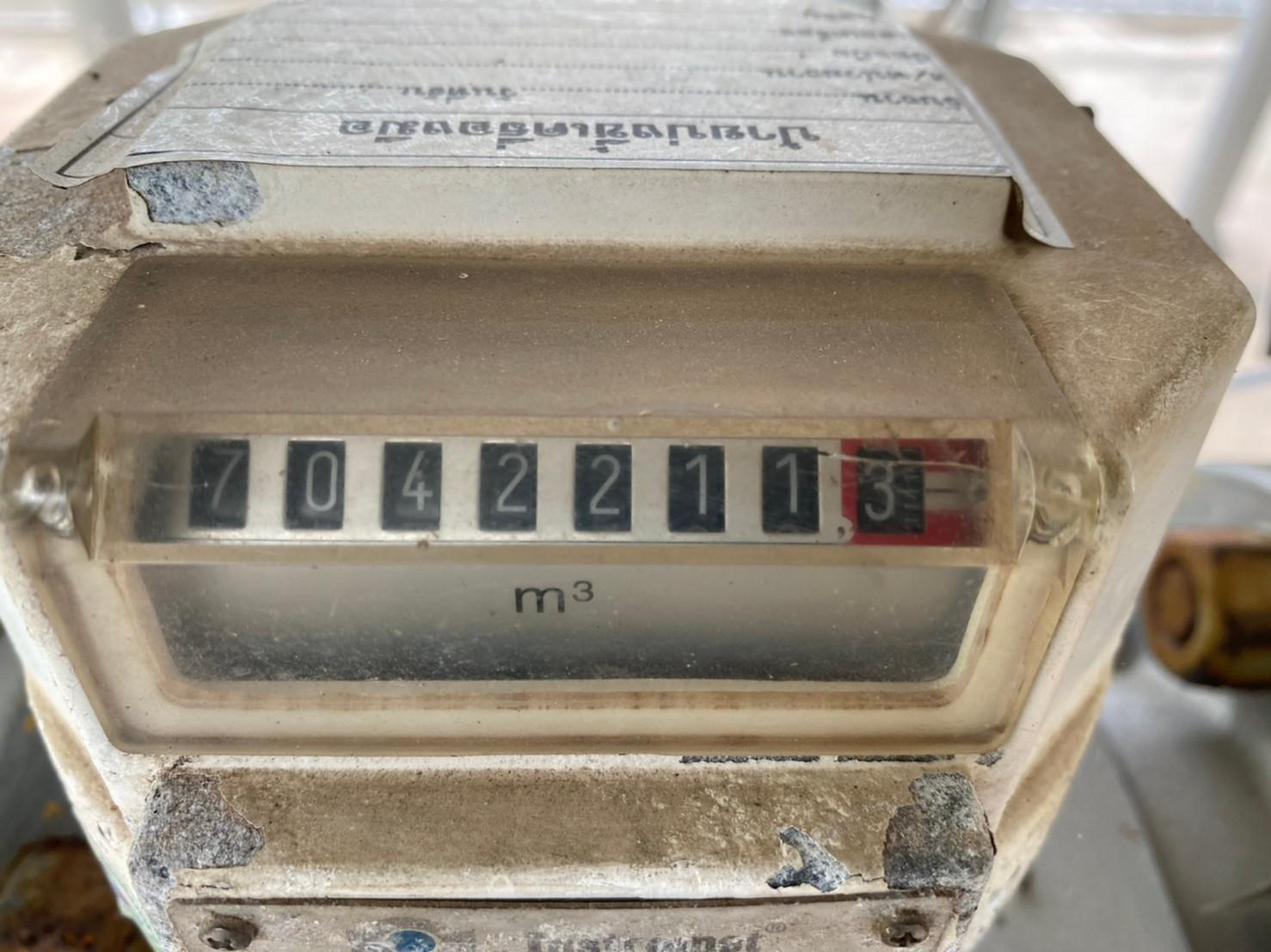analog_dial: (126, 432, 993, 545)
